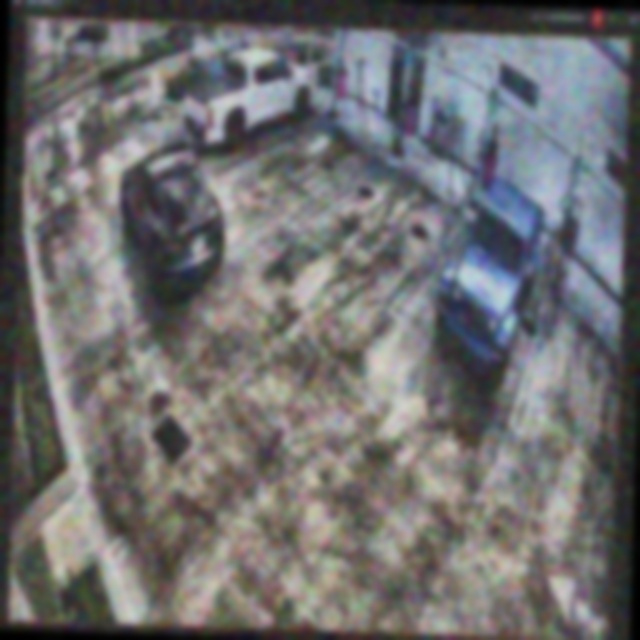Car: (435, 176, 547, 379), (116, 143, 229, 301)
